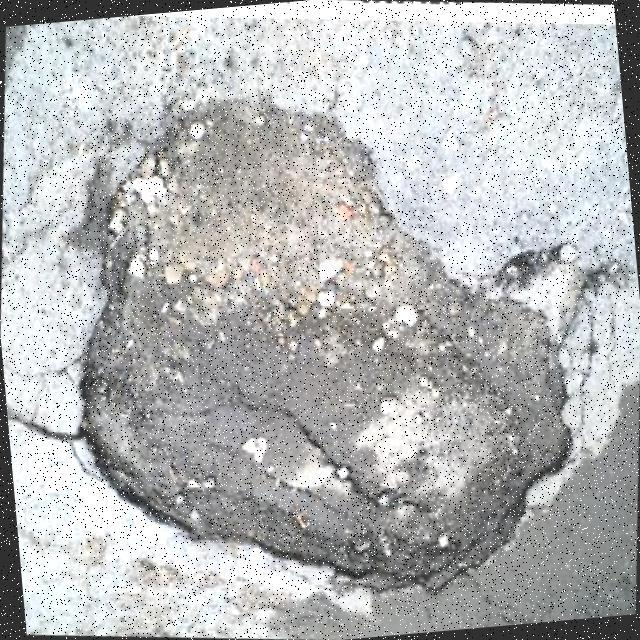Pothole: (81, 100, 573, 593)
